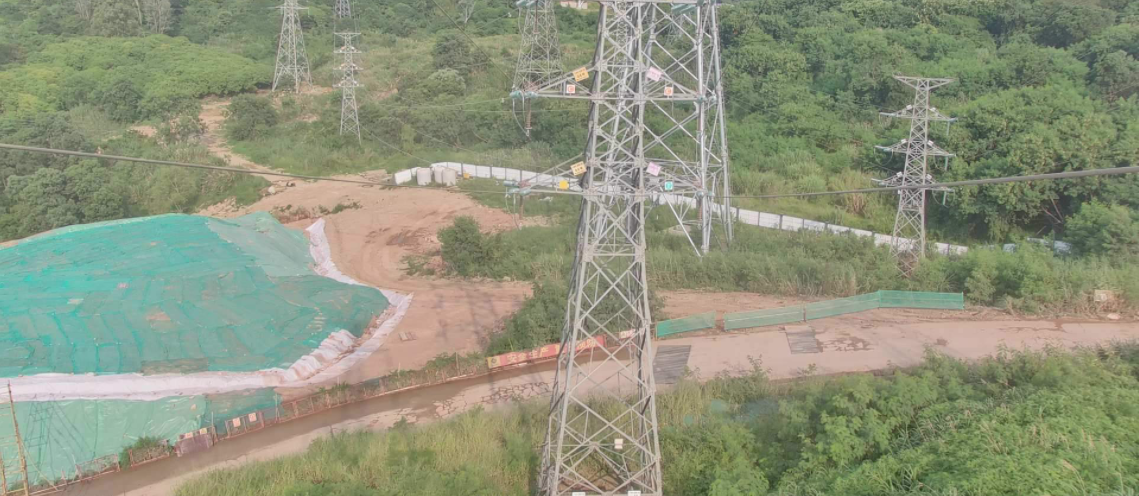绿膜: (0, 207, 393, 378), (0, 384, 285, 495)
